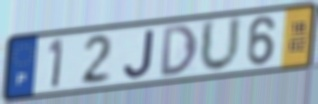1: (47, 36, 64, 90)
2: (79, 32, 115, 87)
6: (246, 15, 278, 68)
D: (160, 23, 200, 79)
J: (122, 28, 157, 80)
U: (198, 14, 244, 75)
